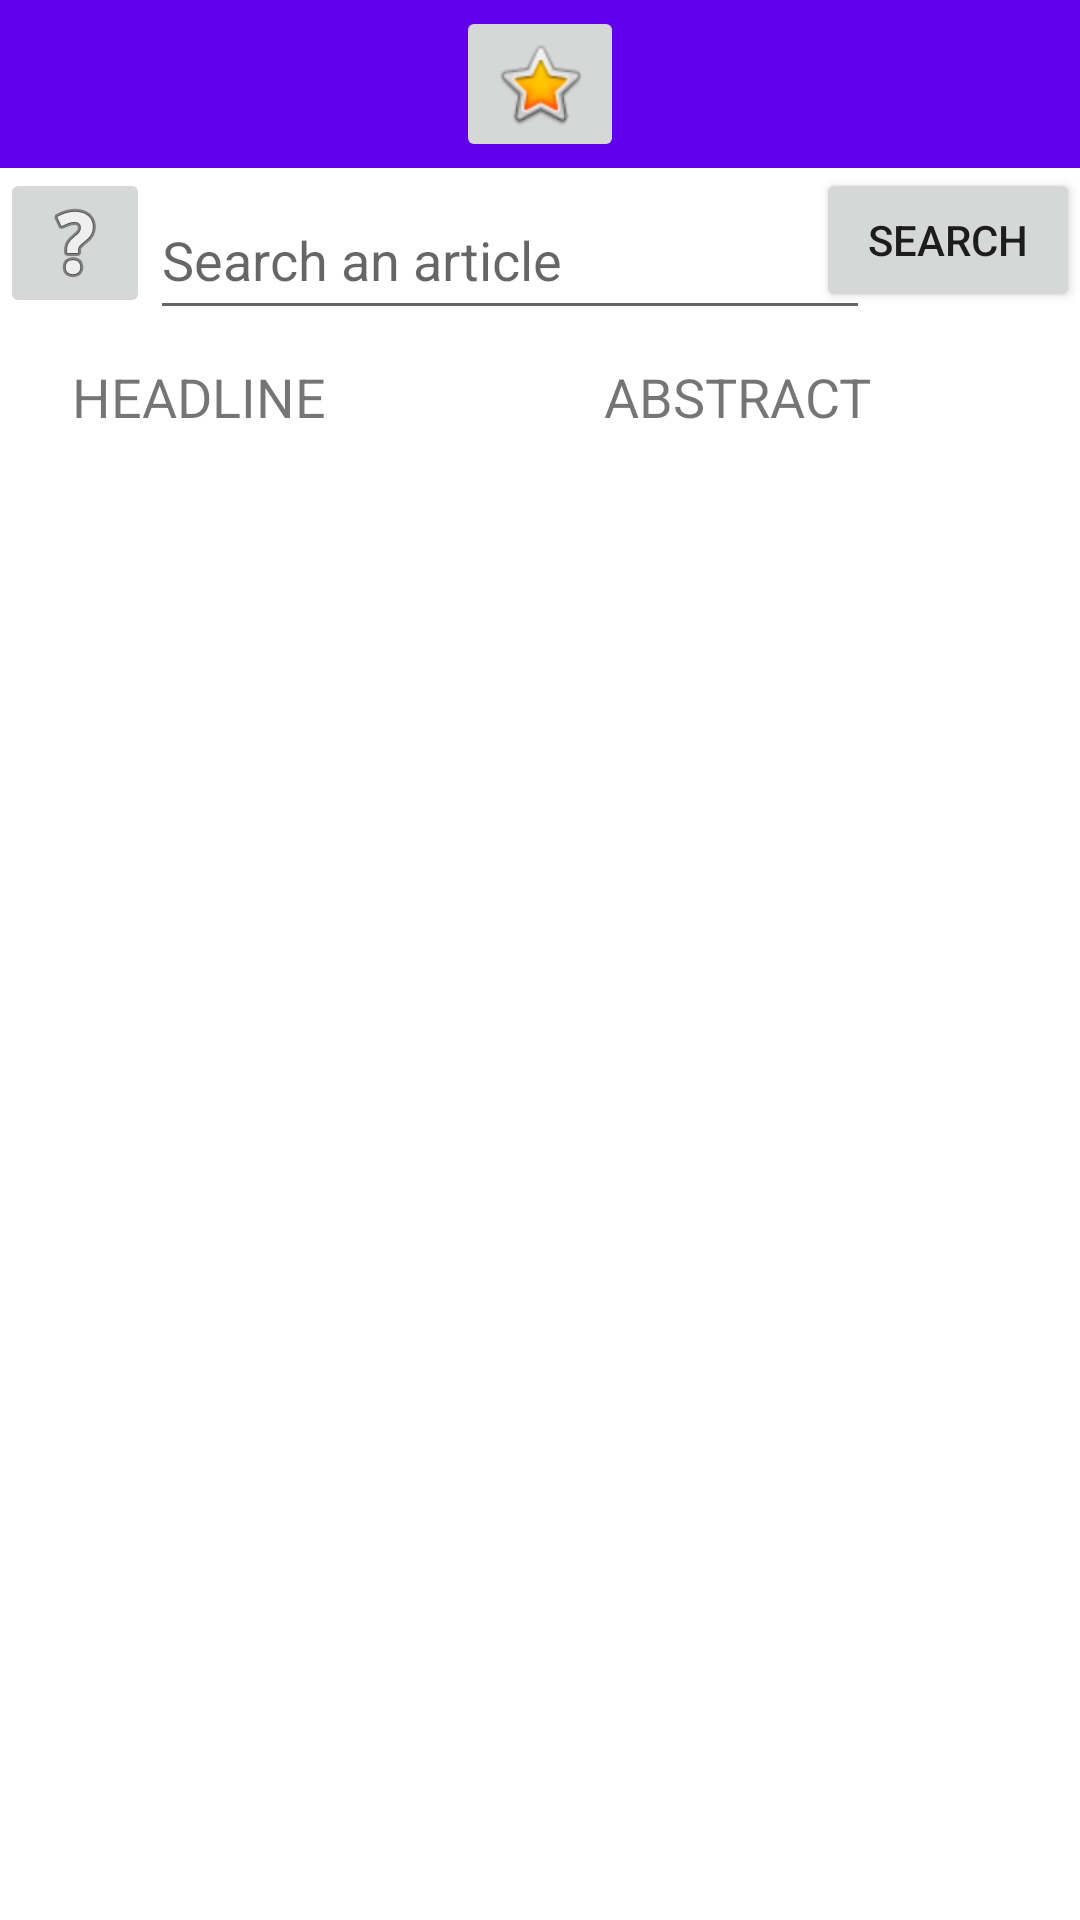

Icon click points for this 1080w x 1920h phone screenshot, format (x,y):
help: (75,243)
star on: (540,84)
